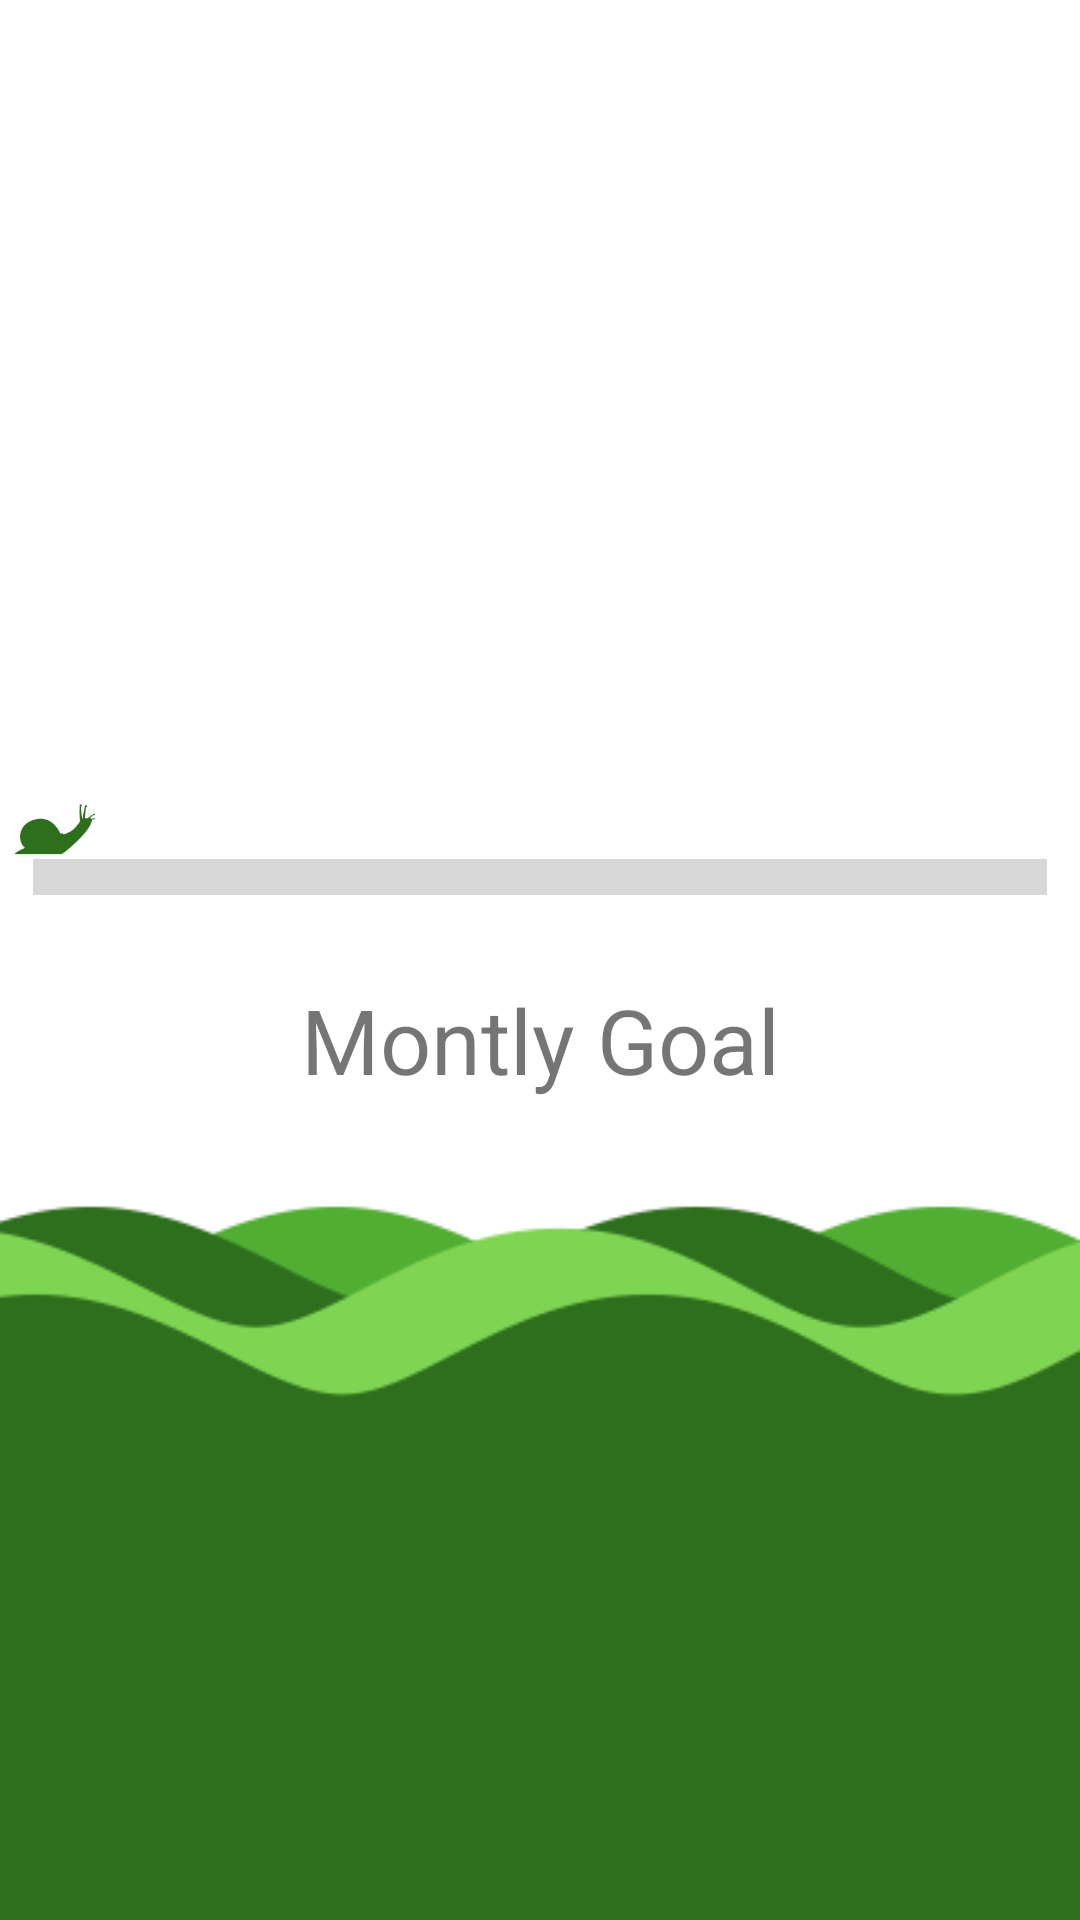

Where icons sit on this 1080 x 1920 app screen, as (x1, y1, x2, y2):
snail: (15, 804, 95, 855)
